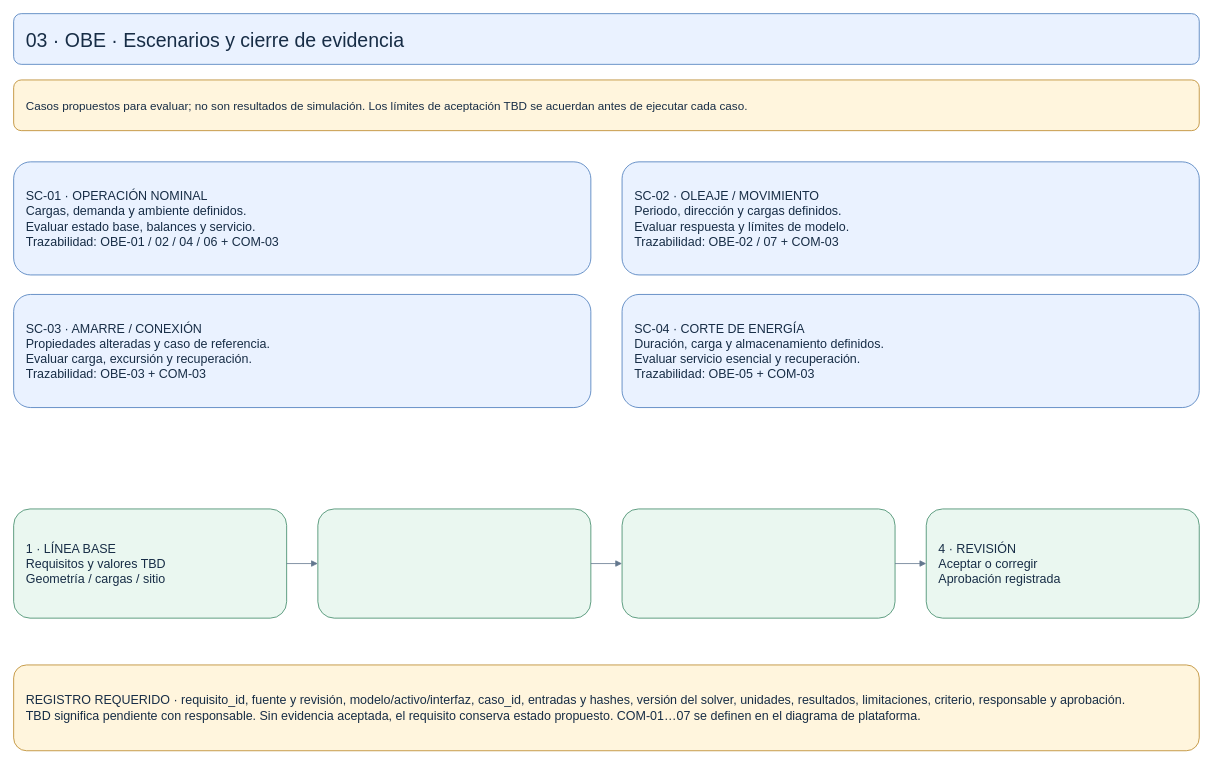
Image size: 1213x764. Some labels were removed from this diagram. Each missing label, with the centre of its shape:
2 · VERIFICACIÓN Modelos y referencia Sensibilidad y convergencia: the point at 454,563
3 · EVIDENCIA Casos + hashes + revisiones Unidades e incertidumbre: the point at 758,563
